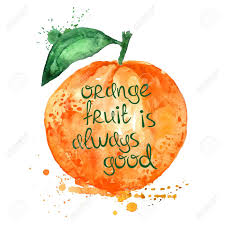orange: (43, 58, 193, 197)
